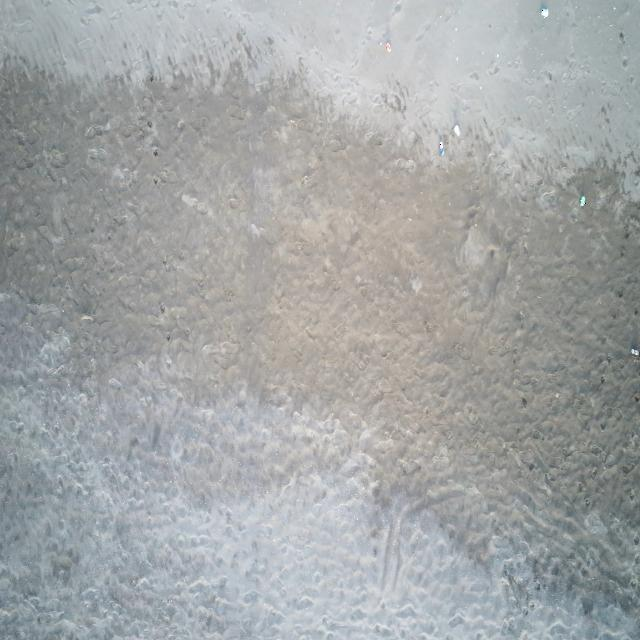Garbage: (377, 39, 390, 51), (437, 141, 444, 155), (540, 4, 547, 16), (452, 125, 459, 136), (579, 195, 586, 206), (631, 347, 639, 356), (384, 40, 390, 51)
